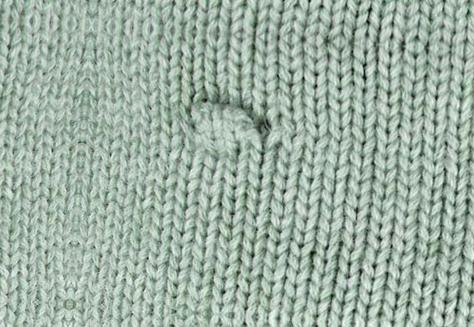knot: (184, 101, 269, 163)
